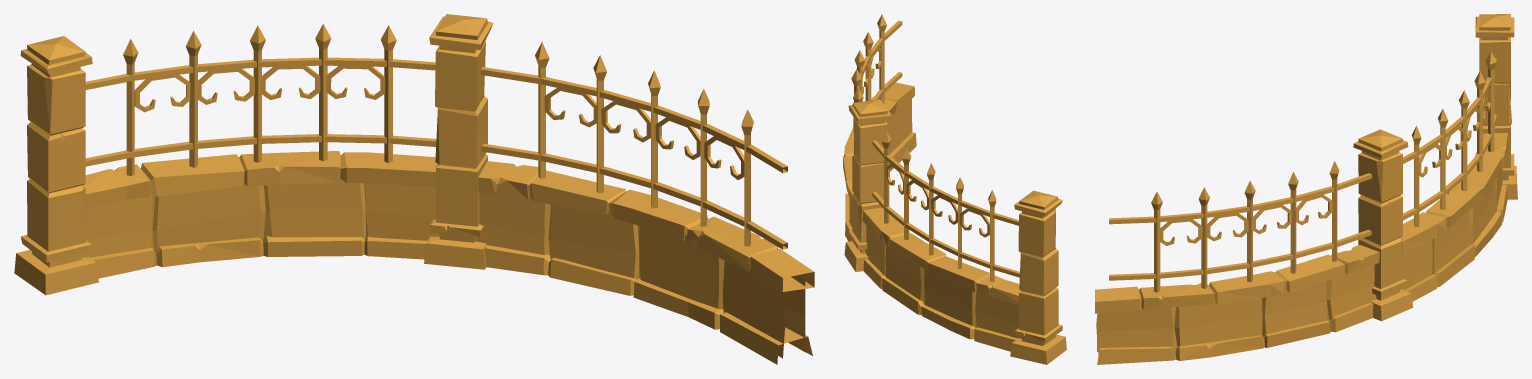
Rendered from wall-graveyard-3m-corner.fbx.
The picture shows the model from 3 angles, left to right: view 1: azimuth 30°, elevation 25°; view 2: azimuth 150°, elevation 25°; view 3: azimuth 270°, elevation 25°; orthographic projection. The views are drawn at different scales.
Visible parts, largest first — view 1: wall-graveyard-3m-corner; view 2: wall-graveyard-3m-corner; view 3: wall-graveyard-3m-corner.
Boxes of the visible parts, bbox=[...] form: wall-graveyard-3m-corner: bbox=[14, 14, 814, 364]; wall-graveyard-3m-corner: bbox=[843, 14, 1066, 364]; wall-graveyard-3m-corner: bbox=[1095, 14, 1517, 364].
Size of the model in its own units: 3.29 by 1.43 by 3.17.
